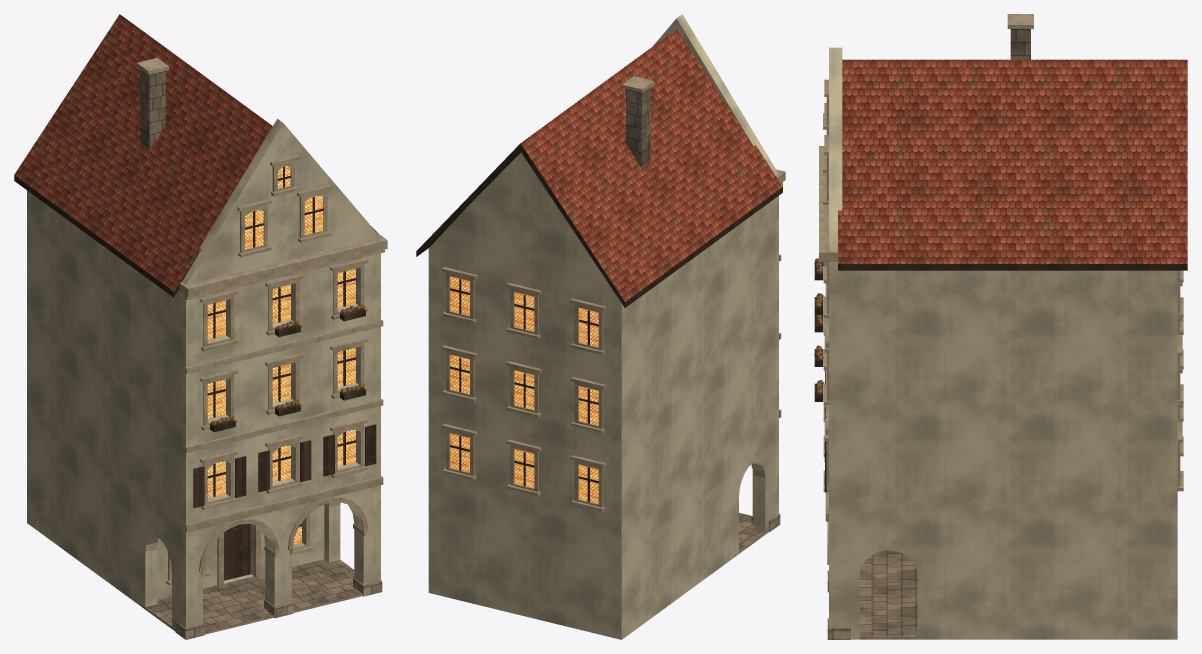
Rendered from house_burgher_d.gltf.
3 views of the same model, side by side, from view 1: azimuth 30°, elevation 25°; view 2: azimuth 150°, elevation 25°; view 3: azimuth 270°, elevation 25° (orthographic). The views are drawn at different scales.
Visible parts, largest first — view 1: house_burgher_d_mesh, INT_door_house_burgher_d, INT_window_house_burgher_d_0, INT_window_house_burgher_d_2, INT_window_house_burgher_d_1; view 2: house_burgher_d_mesh; view 3: house_burgher_d_mesh.
Part boxes in pixels (<box>): house_burgher_d_mesh: <box>14,14,387,639</box>; INT_door_house_burgher_d: <box>224,523,250,580</box>; INT_window_house_burgher_d_0: <box>207,461,226,497</box>; INT_window_house_burgher_d_2: <box>337,430,356,465</box>; INT_window_house_burgher_d_1: <box>272,446,291,481</box>; house_burgher_d_mesh: <box>416,14,785,639</box>; house_burgher_d_mesh: <box>814,14,1187,639</box>.
Size of what is drawn, in the model's own units: 9.2 by 20.71 by 12.86.
13 materials, 13 textured.
